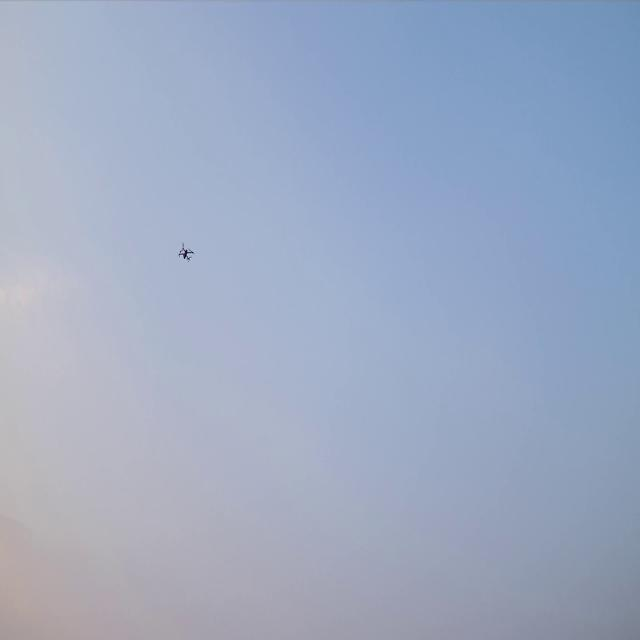UAV: (177, 241, 194, 263)
